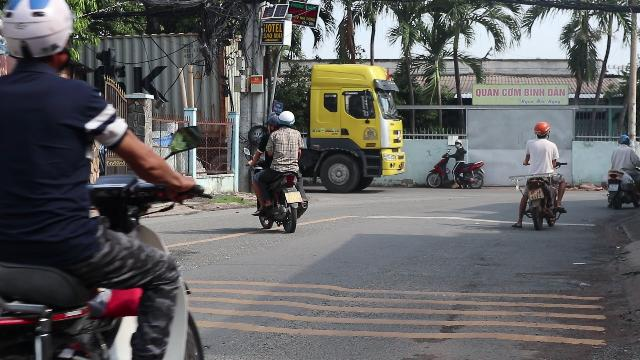helmet: (1, 0, 77, 76), (278, 110, 296, 128), (532, 121, 550, 138), (265, 112, 281, 130)
licenseplate: (528, 188, 544, 200), (286, 191, 302, 201)
motorcyclist: (0, 0, 208, 358), (250, 108, 310, 231), (513, 120, 567, 228)
